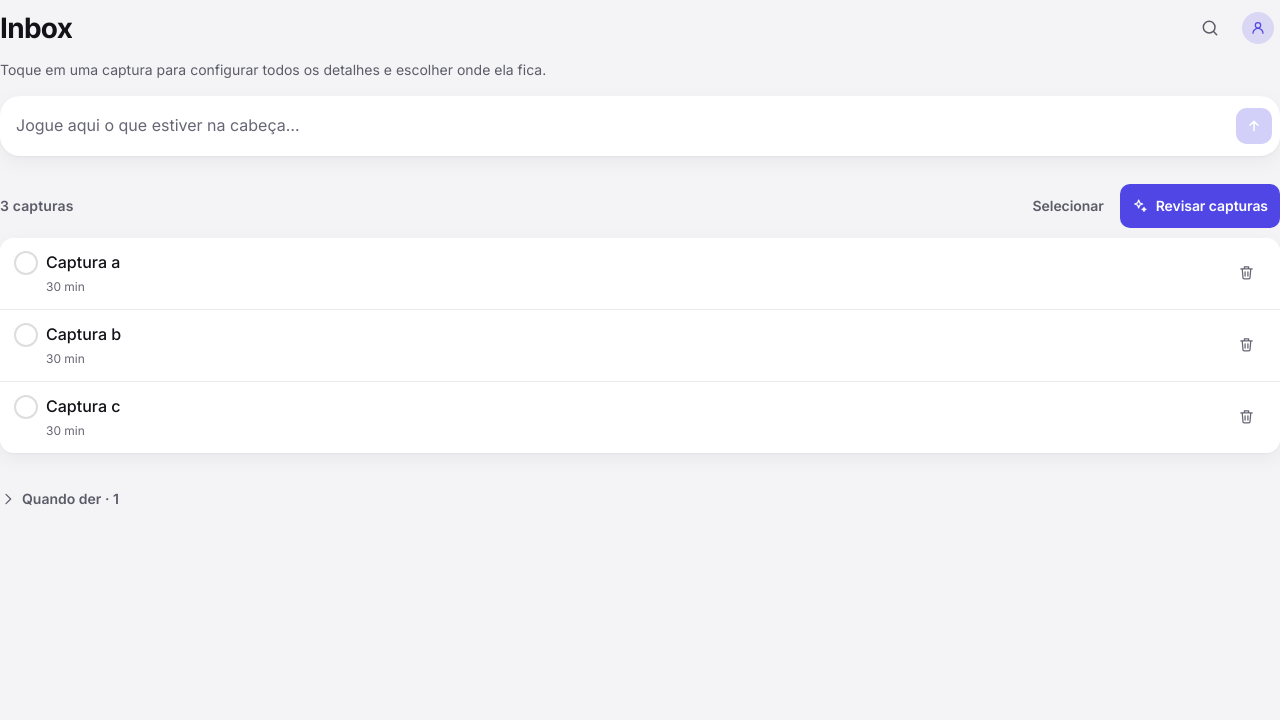
Test: atualiza a quantidade se uma captura é organizada durante a confirmação
This screenshot has width=1280, height=720.
Click the button "Selecionar": (1068, 206) [1021, 184, 1116, 228]
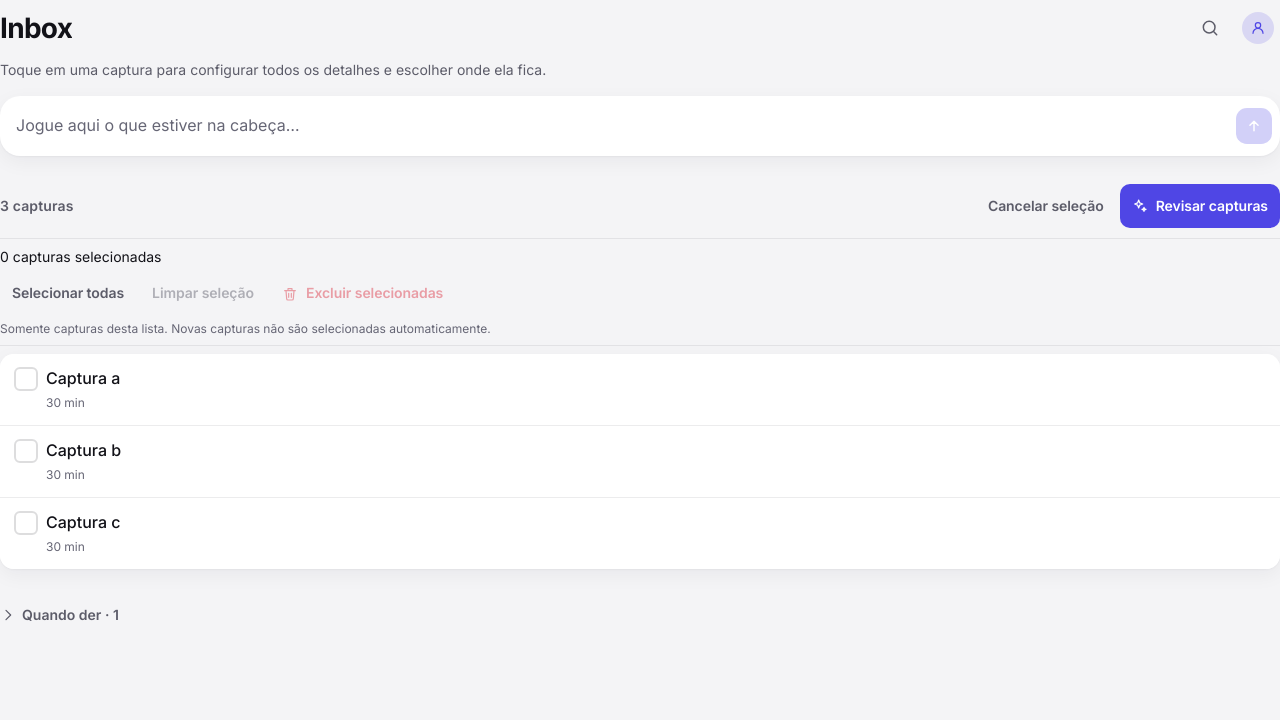
Click the button "Selecionar todas": (68, 294) [0, 272, 136, 316]
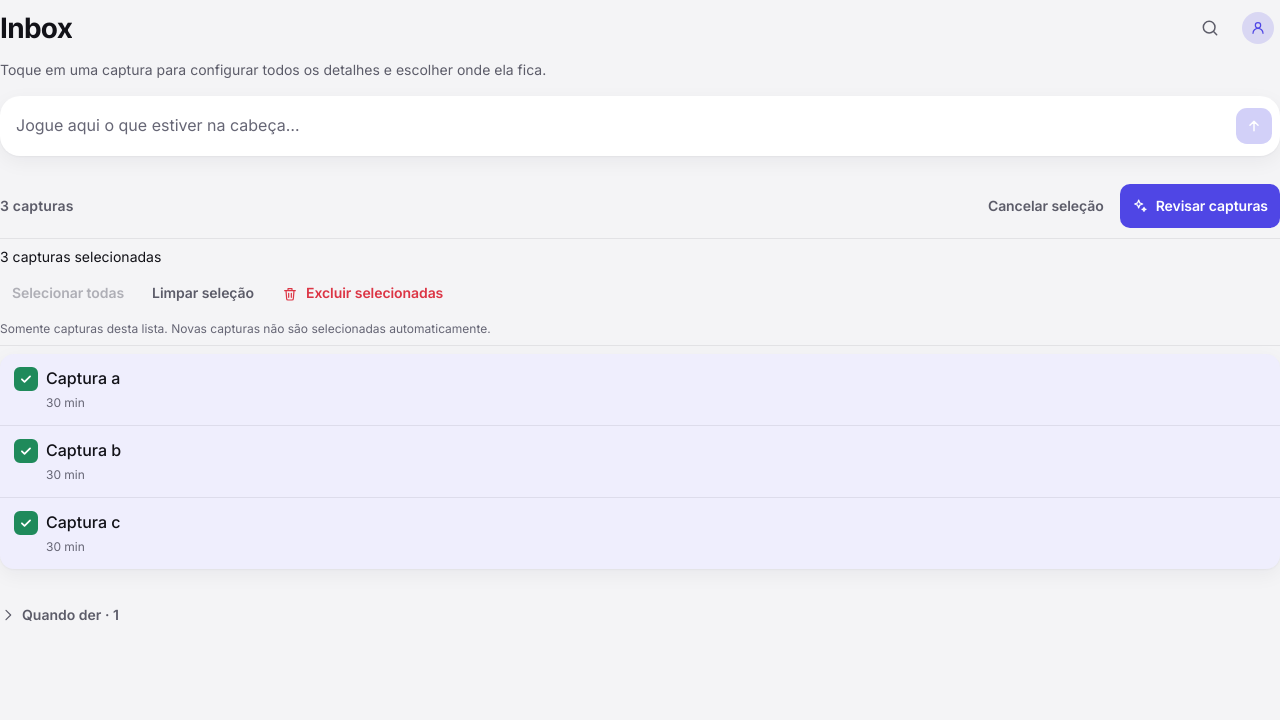
Click the button "Excluir selecionadas": (363, 294) [270, 272, 455, 316]
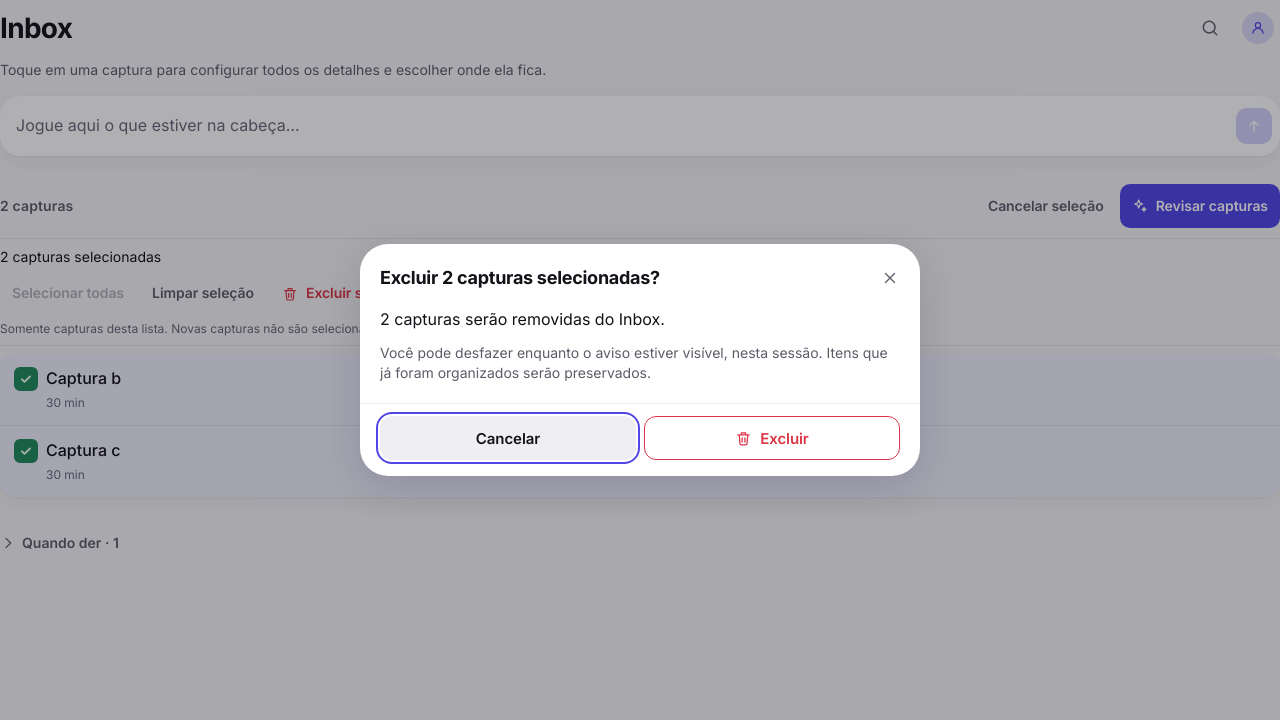
Expected: the dialog shows "Excluir 2 capturas selecionadas?", [380, 267, 660, 288]
Click the button "Excluir": (772, 438) [644, 416, 900, 460]
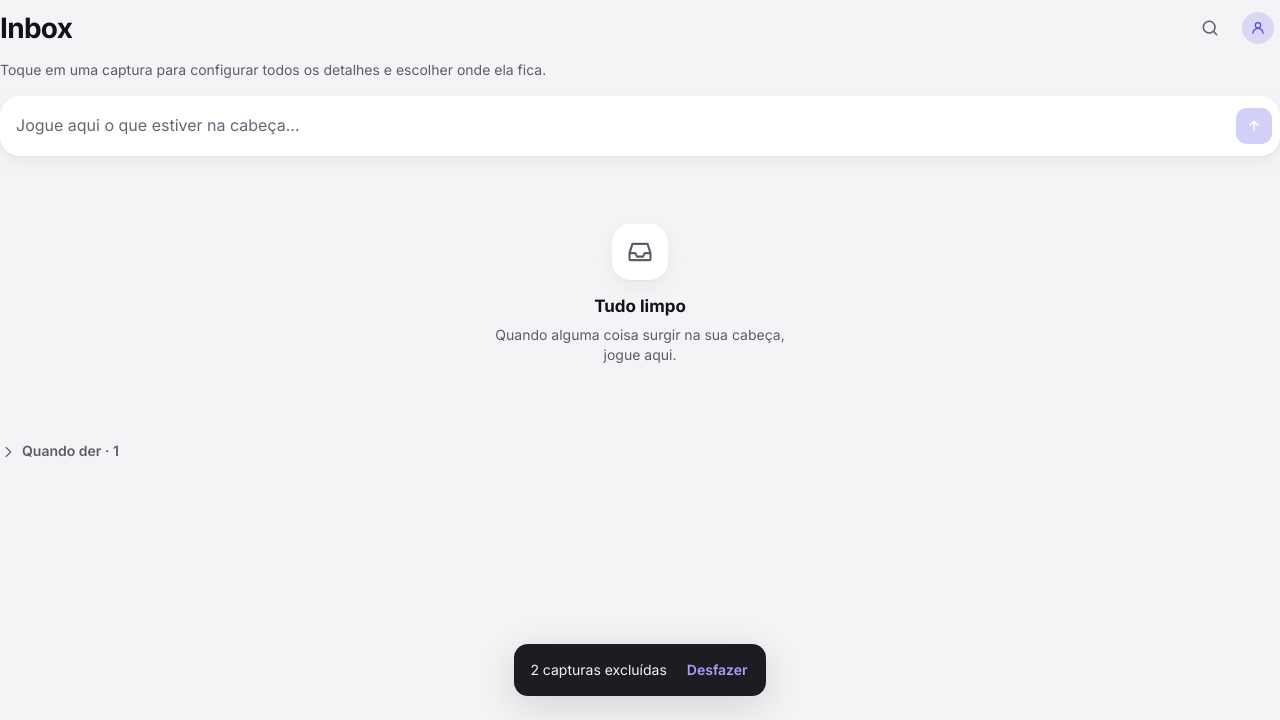
Expected: the text "2 capturas excluídas" is shown, [530, 660, 667, 680]
